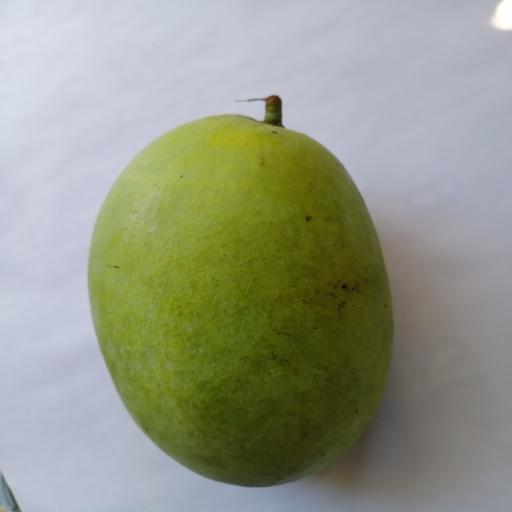mango-unripe: (58, 89, 421, 490)
